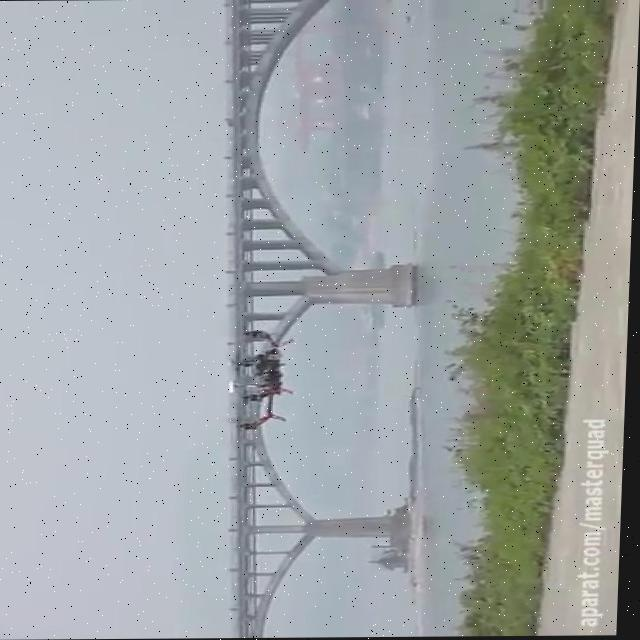drone: (222, 320, 296, 441)
